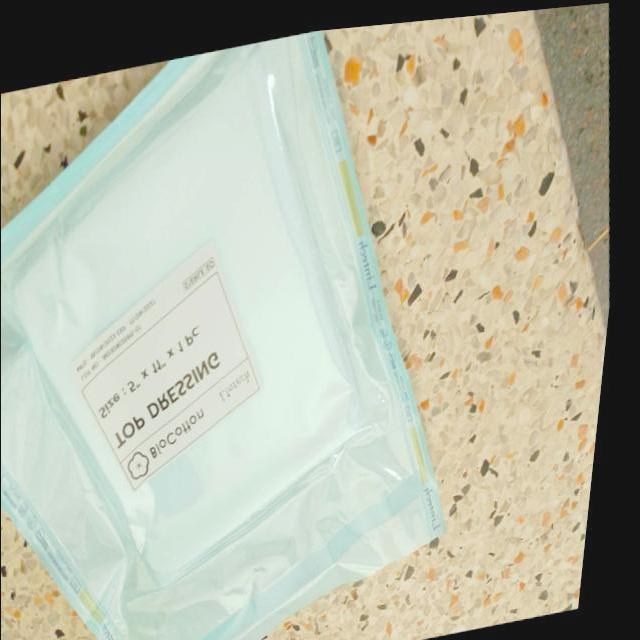Infectious: (1, 29, 447, 639)
Sharps: (298, 30, 447, 533)
